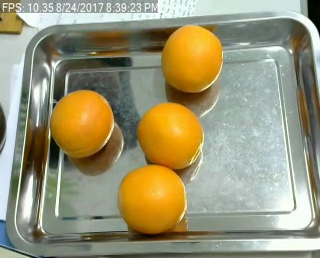Orange: (116, 166, 188, 232), (137, 102, 203, 169), (49, 89, 113, 156), (161, 24, 223, 92)
